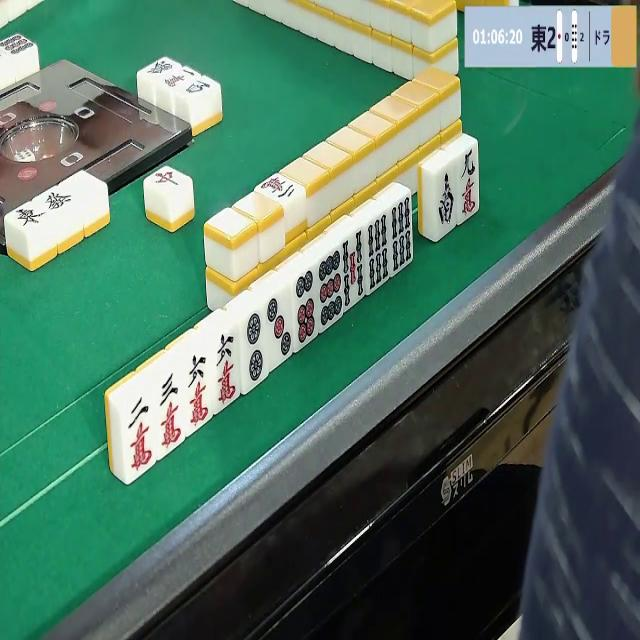2C: (121, 390, 159, 481), (259, 170, 304, 208)
2D: (242, 308, 268, 391)
3C: (157, 368, 189, 456)
3D: (265, 290, 295, 368)
5B: (341, 233, 368, 309)
6B: (366, 215, 392, 293), (389, 197, 413, 277)
6C: (183, 349, 215, 432), (215, 329, 243, 408)
6D: (291, 270, 318, 350)
9C: (458, 144, 478, 222)
9D: (319, 248, 346, 330)
EW: (12, 201, 45, 232)
GD: (40, 190, 72, 211)
RD: (151, 167, 184, 191)
SW: (434, 167, 458, 238)
